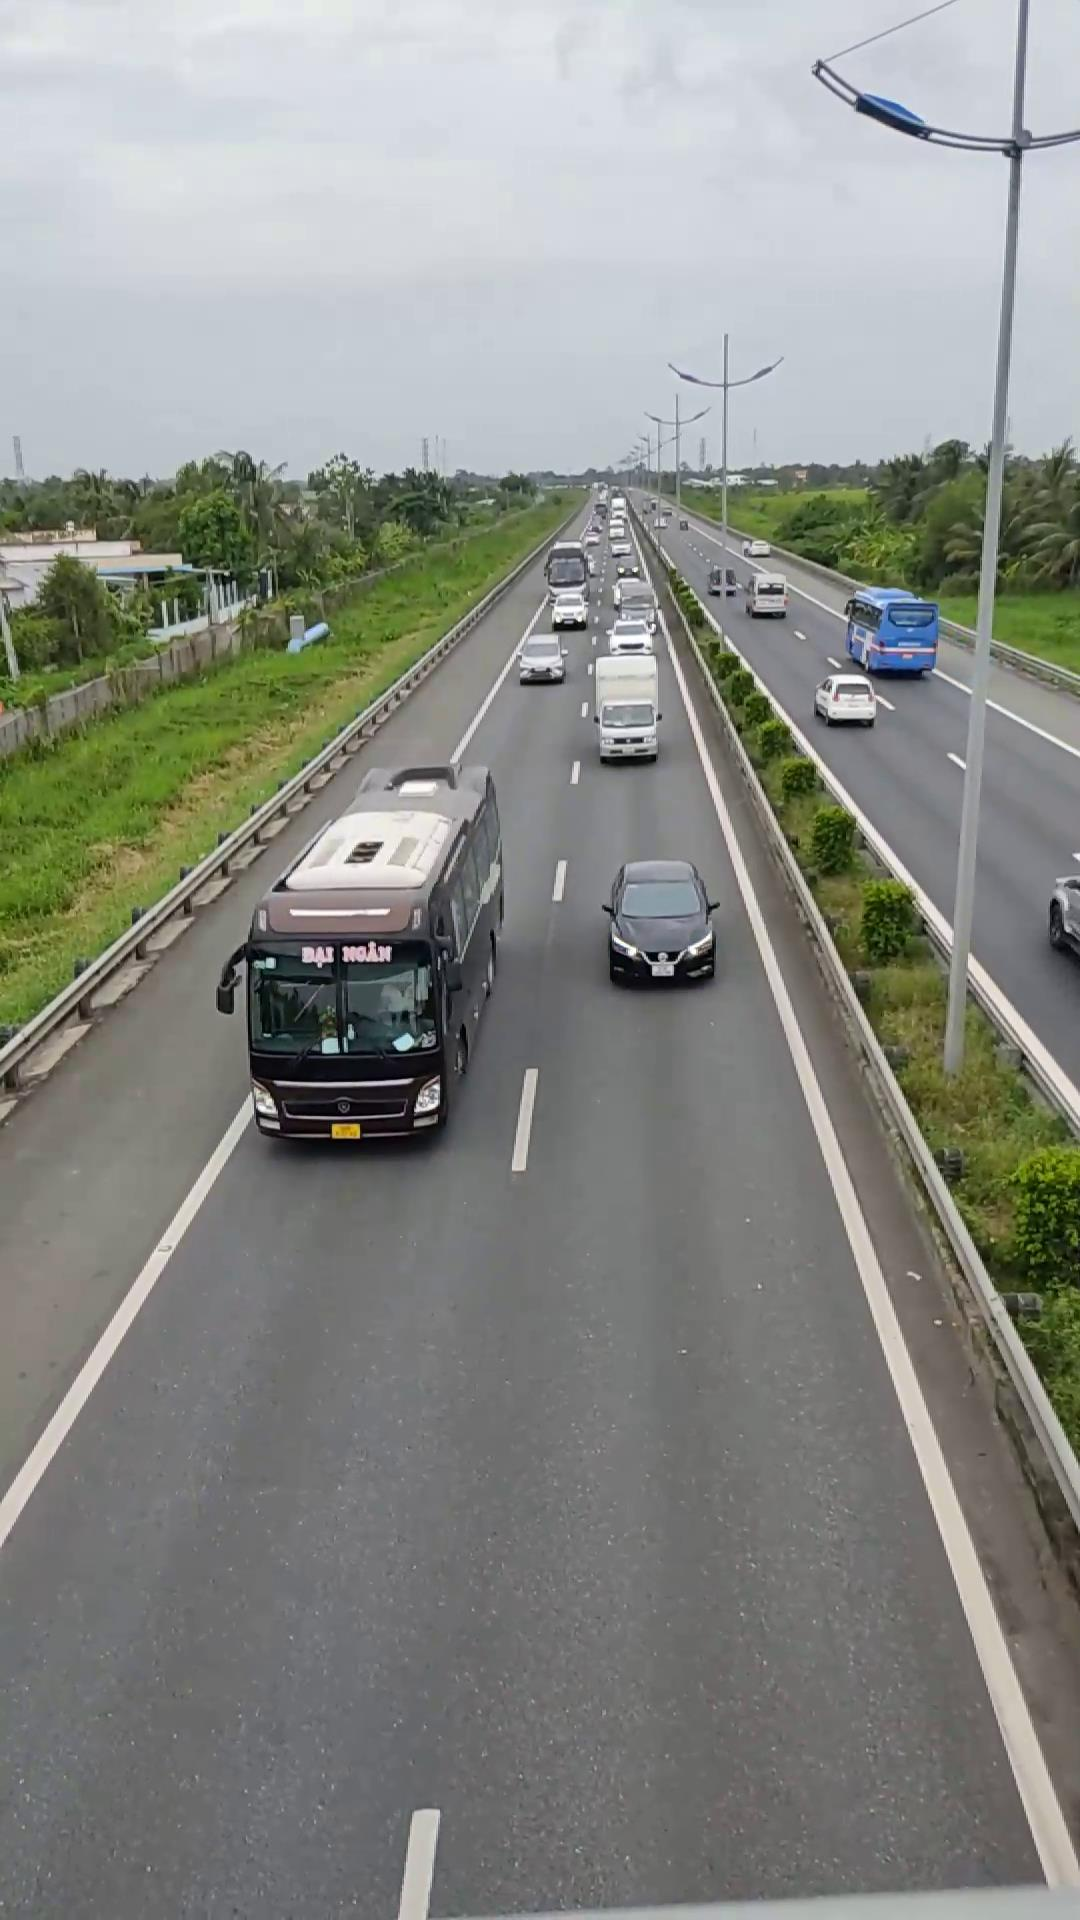bus: (230, 761, 510, 1146)
car: (603, 857, 719, 983)
truck: (589, 638, 664, 763), (844, 583, 940, 677)
